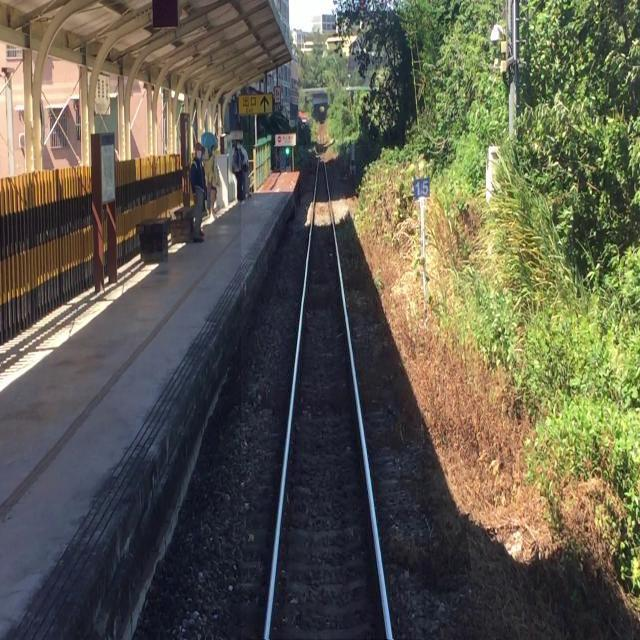rail: (243, 147, 423, 640)
